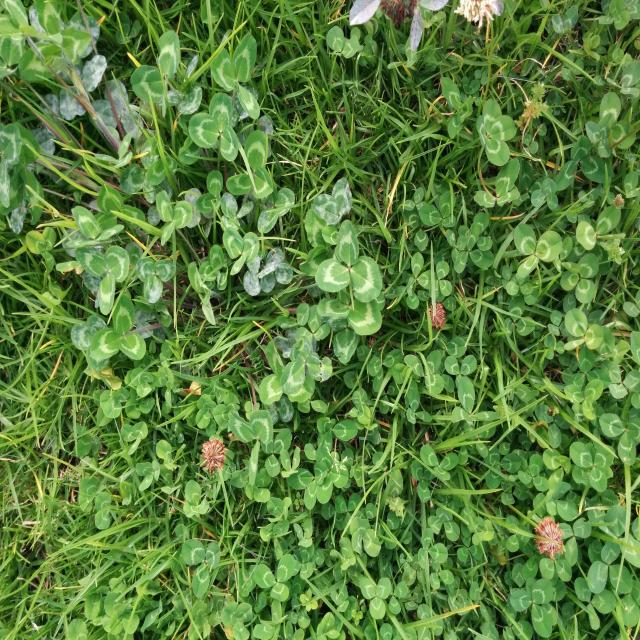Four Leaf Clover: (476, 98, 515, 166)
